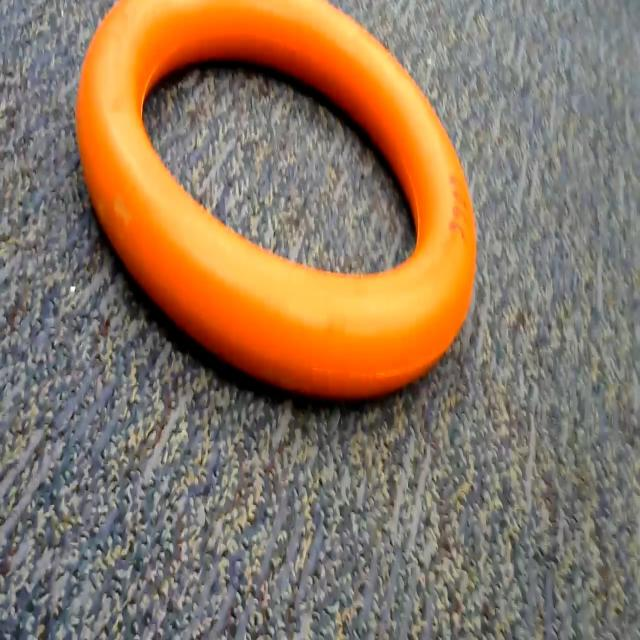note: (73, 0, 487, 410)
